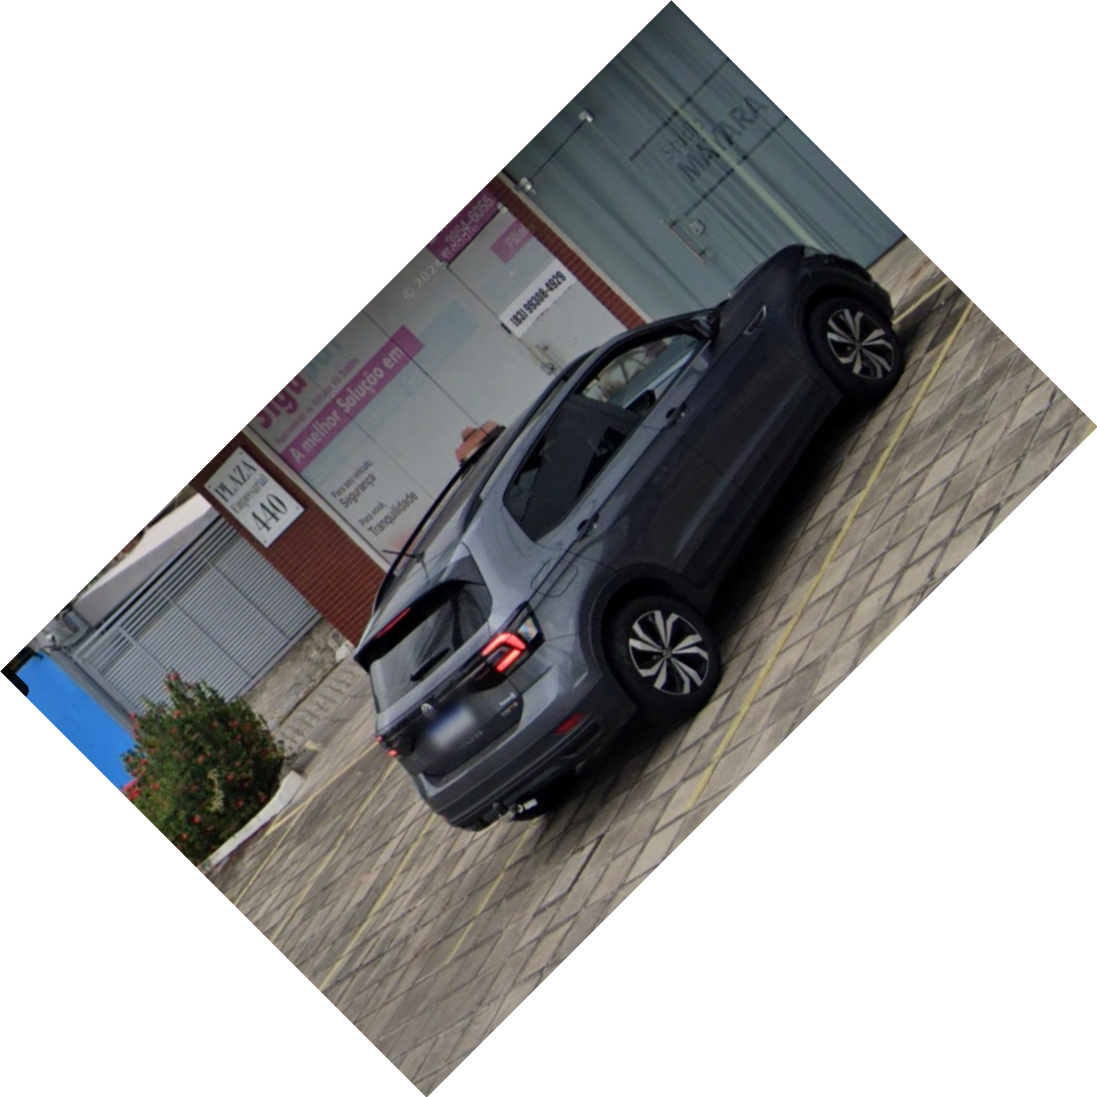car: (349, 237, 907, 832)
